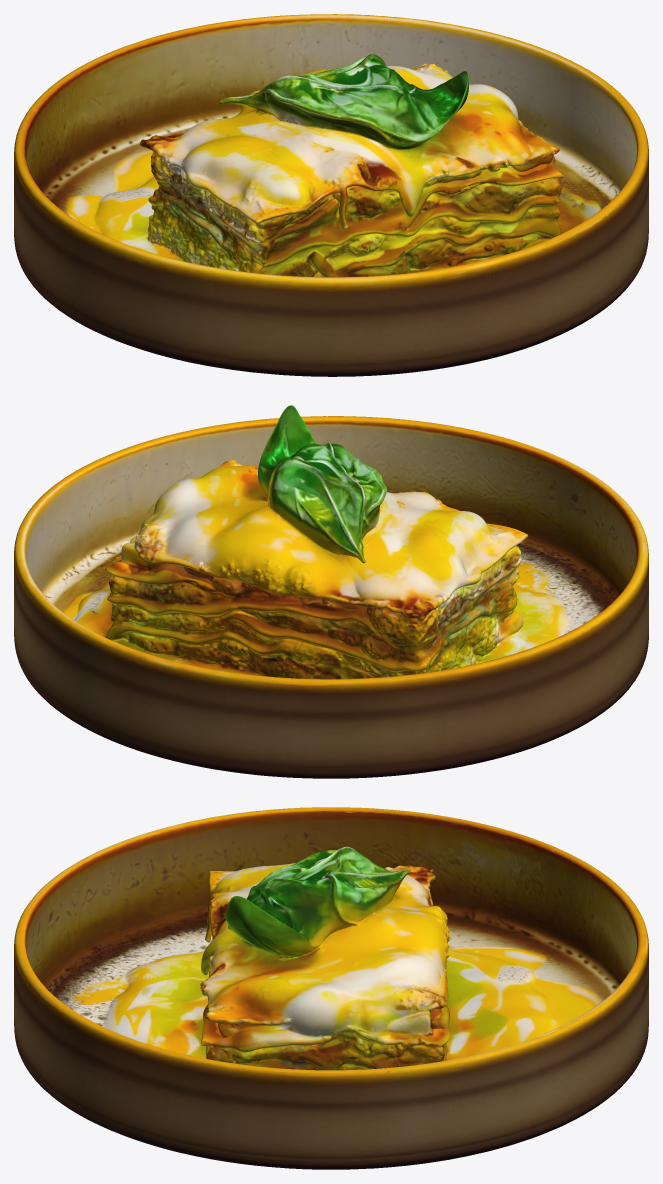
Rendered from Pinocchio-Tiramisu.glb.
3 renders of one model, top to bottom at view 1: azimuth 30°, elevation 25°; view 2: azimuth 150°, elevation 25°; view 3: azimuth 270°, elevation 25°, orthographic.
Visible parts, largest first — view 1: Mesh_0; view 2: Mesh_0; view 3: Mesh_0.
Part boxes in pixels (x1,y1,x2,y2): Mesh_0: (14, 14, 648, 376); Mesh_0: (14, 405, 648, 778); Mesh_0: (14, 807, 648, 1169).
Bounding box in the file's own units: 0.057 × 0.0209 × 0.057.
Materials: 1 (1 with a texture image).
